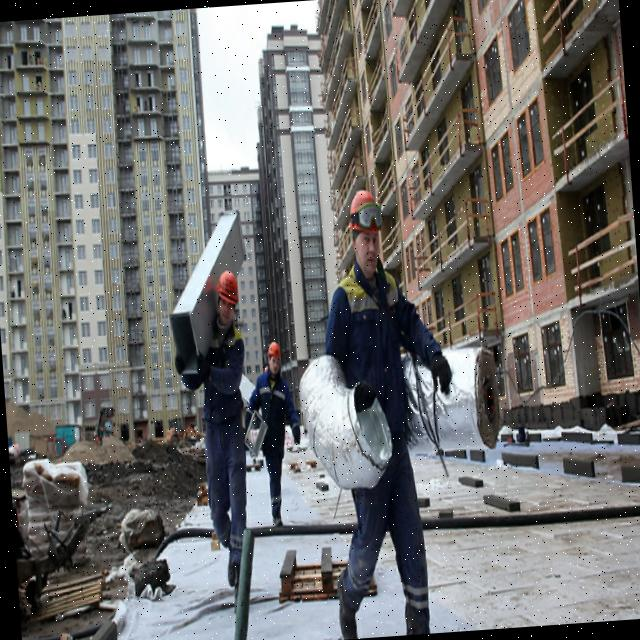Helmet: (347, 190, 384, 241), (216, 269, 240, 312), (266, 342, 282, 365)
NoJacket: (333, 260, 409, 403), (204, 324, 249, 460), (258, 369, 290, 447)
